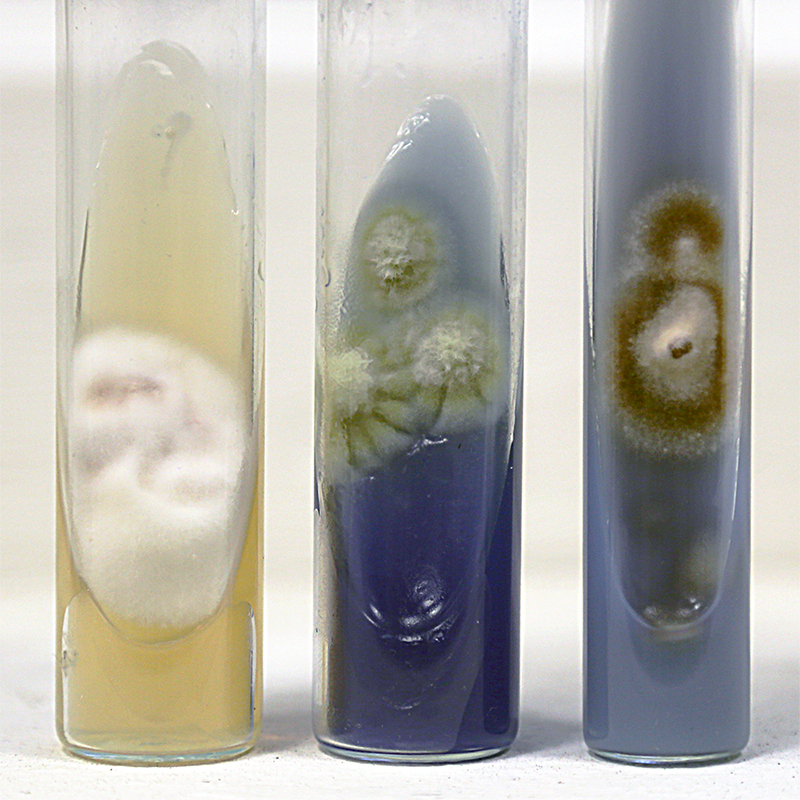Trichophyton: (66, 321, 249, 631), (359, 221, 472, 433), (630, 208, 722, 425)
